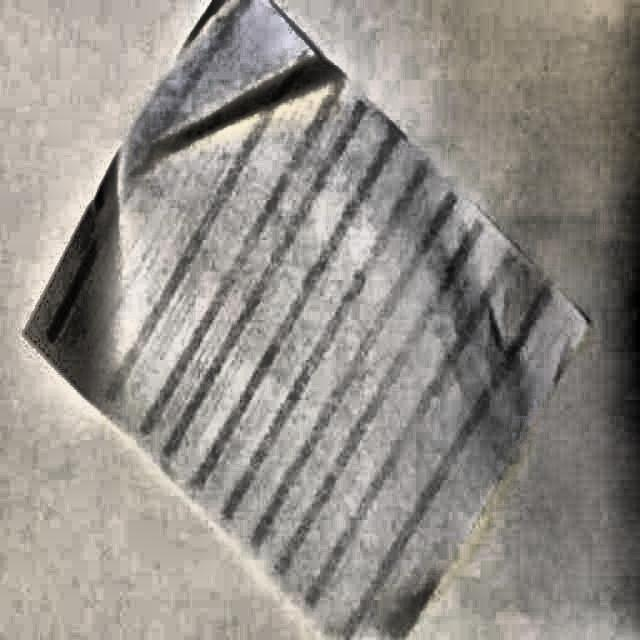Paper: (21, 4, 589, 639)
